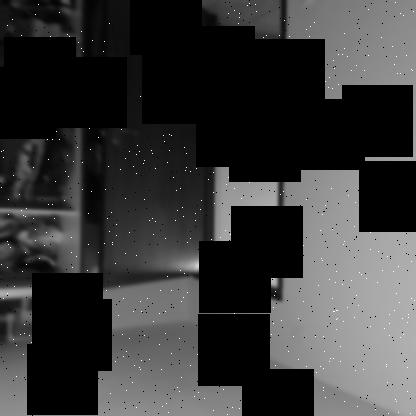Porte: (96, 0, 289, 302)
